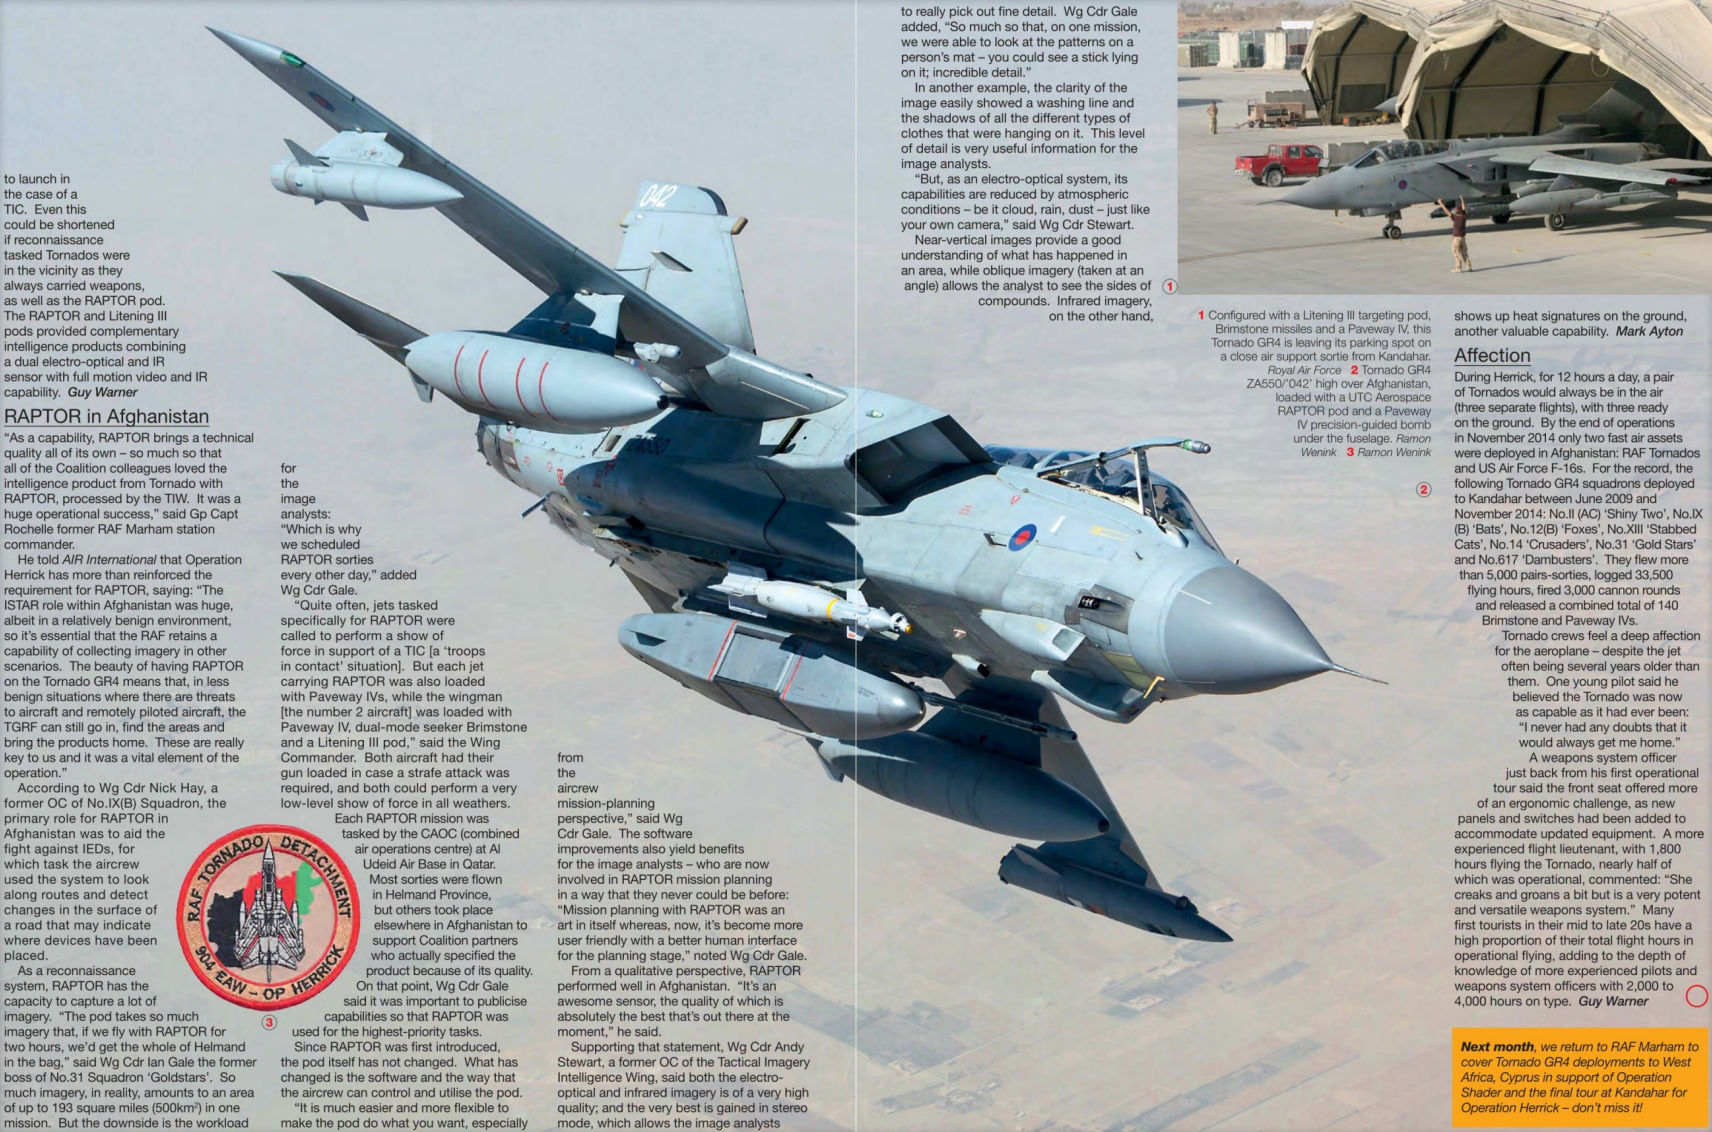Tornado: (202, 24, 1389, 942), (1255, 73, 1712, 240)
